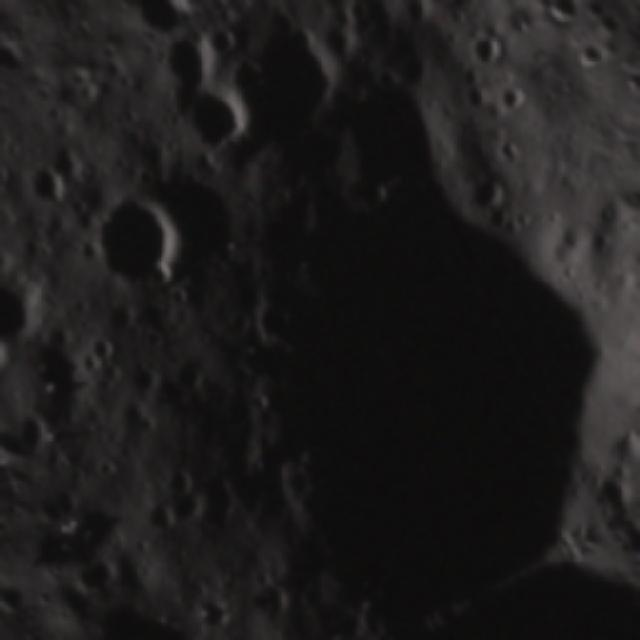crater: (107, 126, 640, 640), (309, 59, 465, 210), (66, 178, 200, 314), (158, 68, 260, 178), (132, 19, 236, 119), (0, 248, 58, 348), (5, 393, 67, 462), (8, 154, 70, 214), (455, 162, 514, 220), (460, 20, 514, 72), (394, 0, 492, 28), (196, 12, 249, 62), (47, 77, 107, 120), (70, 329, 121, 378), (154, 454, 201, 500), (330, 0, 384, 34), (492, 74, 534, 114), (0, 311, 20, 386)
